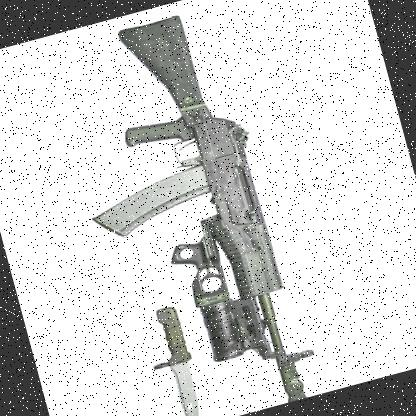rifle: (49, 0, 334, 416)
